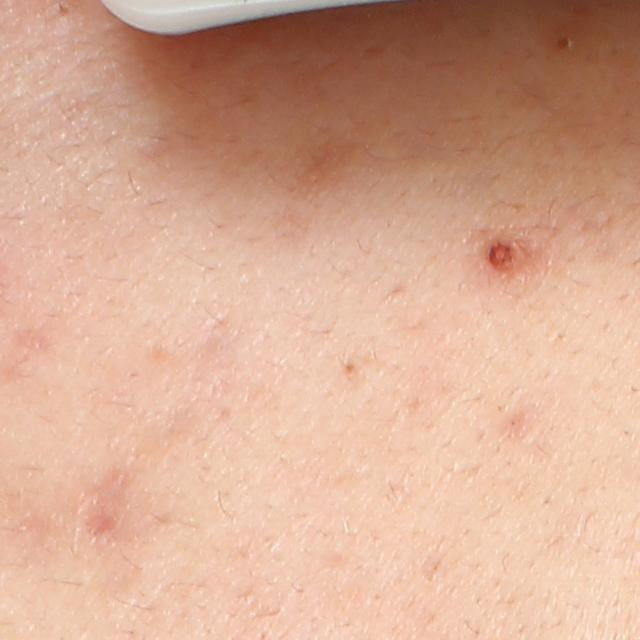comedo: (335, 357, 360, 383)
papule: (480, 235, 538, 279)
